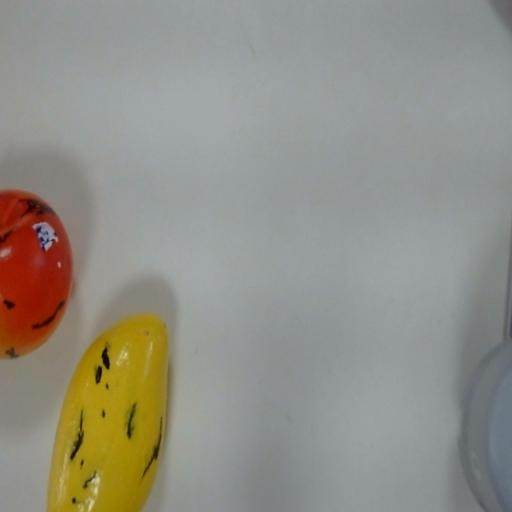Defective: (44, 310, 179, 512), (0, 174, 78, 374)
